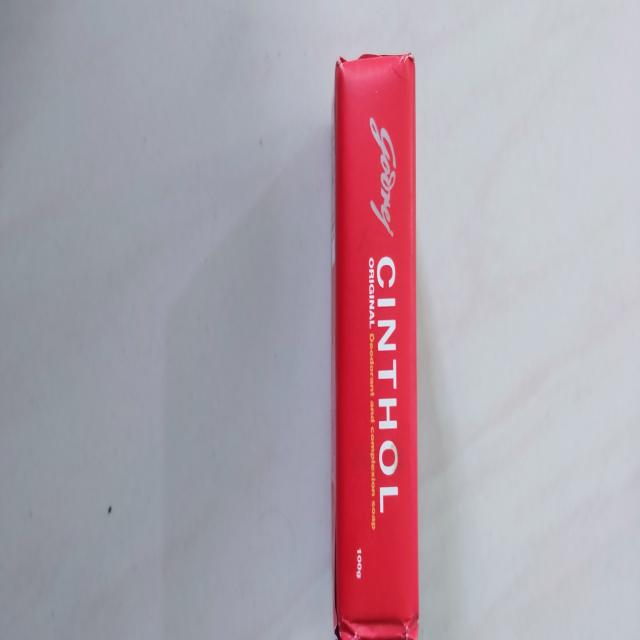soap: (329, 44, 420, 640)
